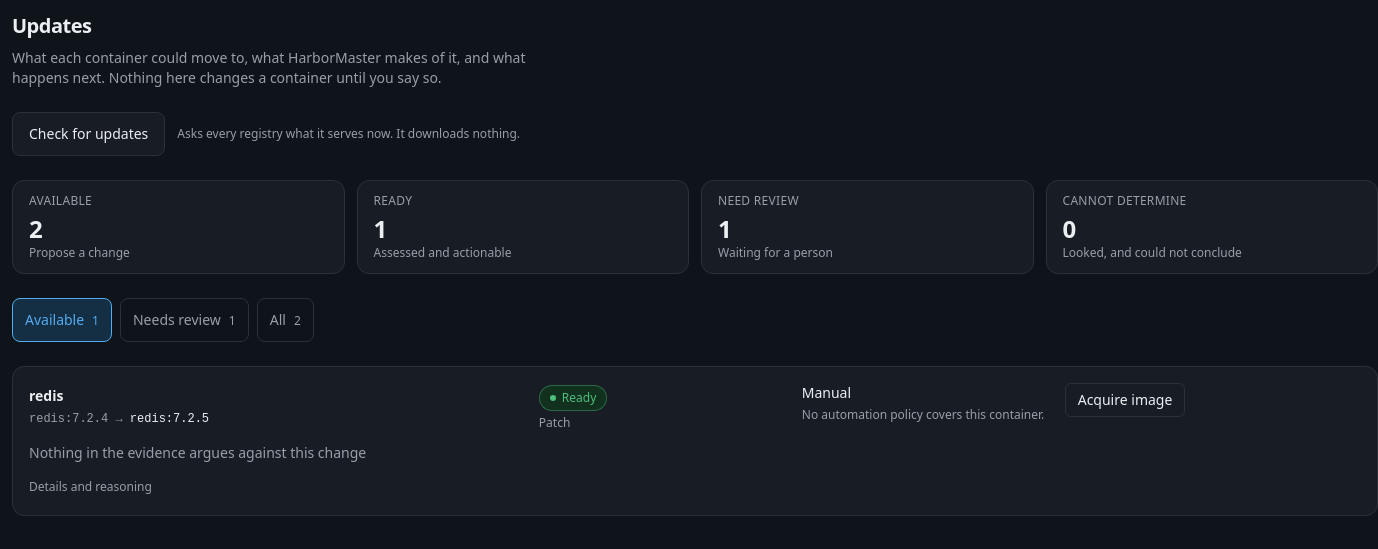
Test: separates what needs a person from what does not
The width and height of the screenshot is (1378, 549).
Check: the link "redis" is shown, box [29,386,64,405]
Check: the text "bash" is not shown
What coordinates should you click on to do the following:
click the tab "Needs review1"
I would click on:
 (184, 320)
Its box is [120,298,249,342].
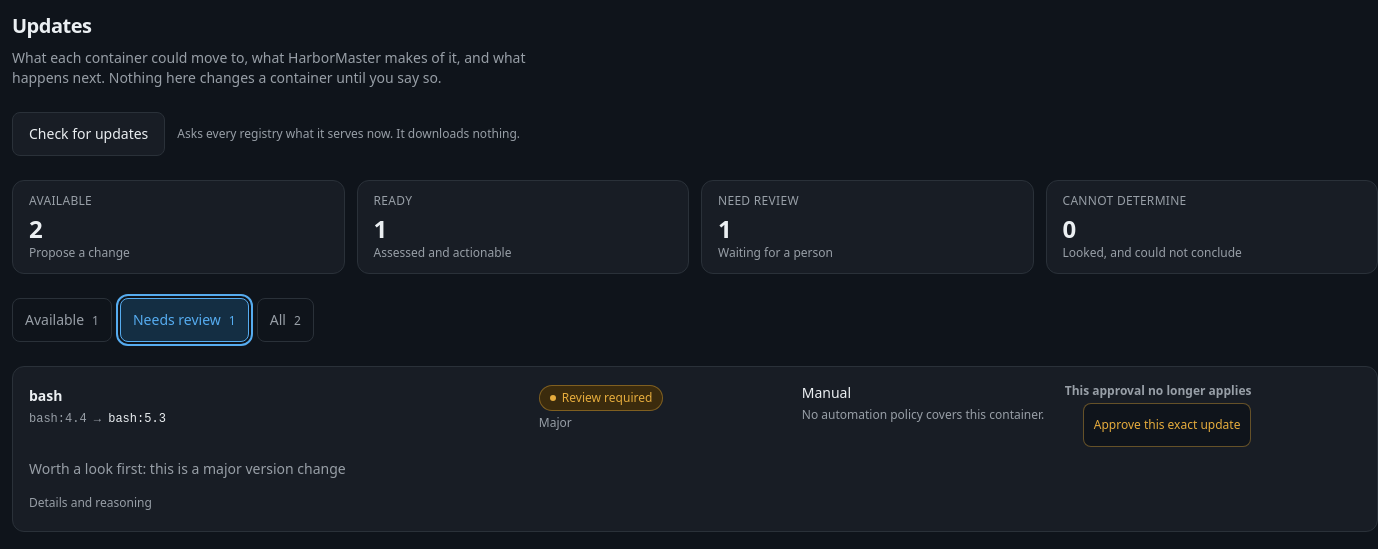
Check: the link "bash" is shown, box [29,386,62,405]
Check: the link "redis" is gone
Check: the text "Worth a look first: this is a major version change" is shown, box [29,459,346,478]
